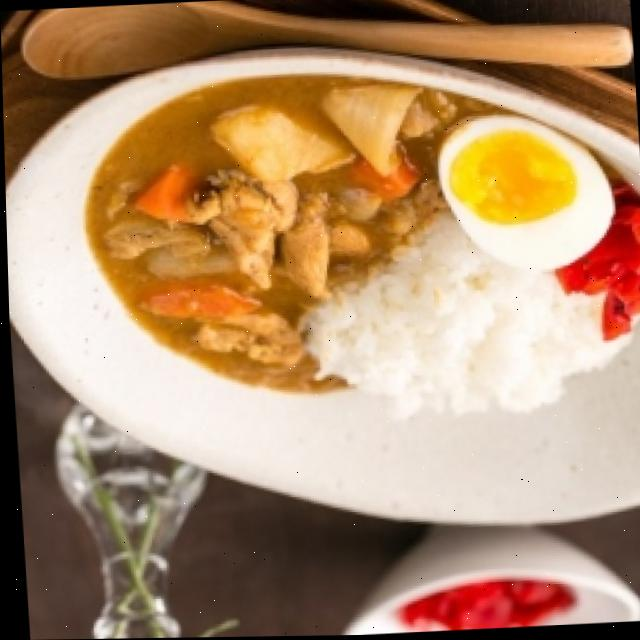Wet: (75, 59, 640, 434)
